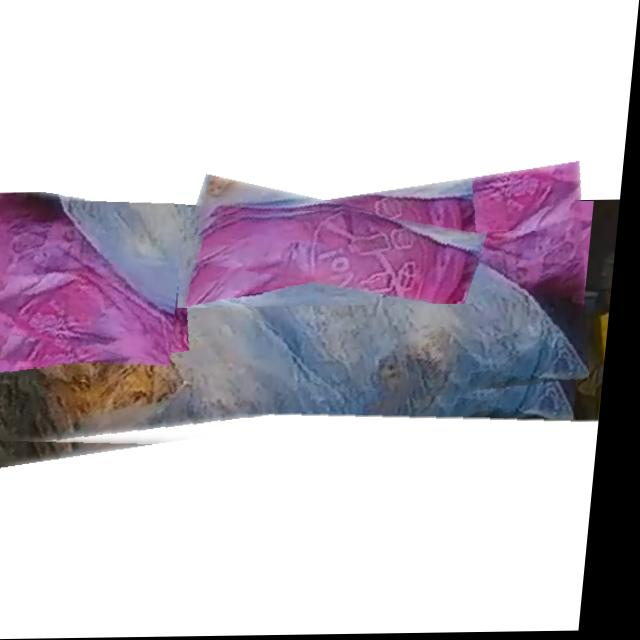other_trashbag: (0, 235, 597, 446), (0, 193, 180, 367), (188, 210, 484, 306)
